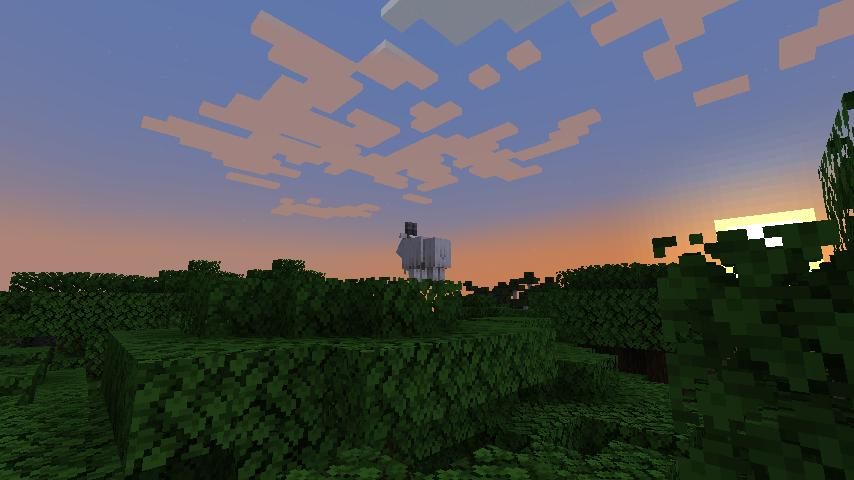goat: (395, 220, 454, 282)
